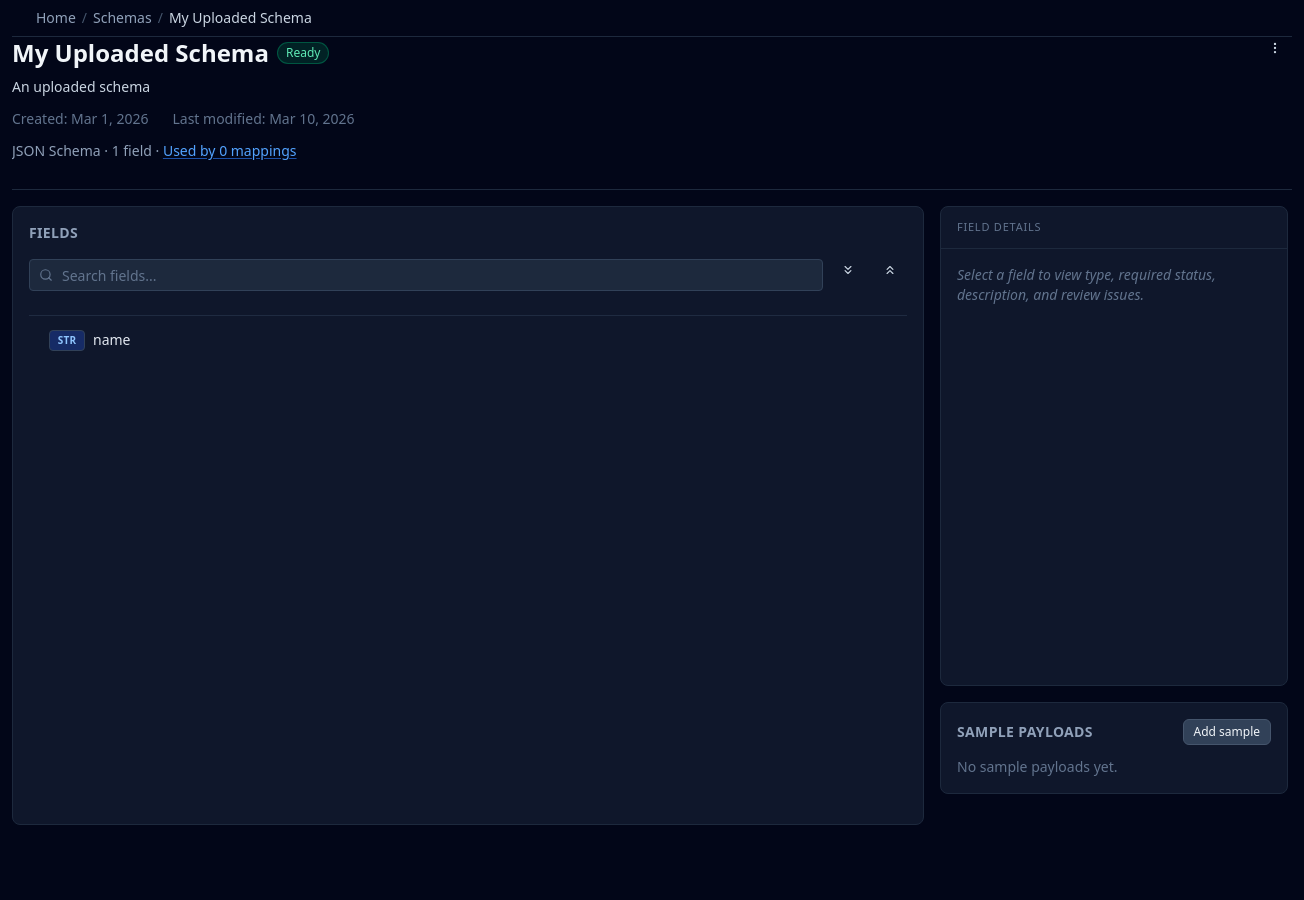
SchemaDetailPage › field details edit mode shows save and cancel controls for selected field
The image size is (1304, 900).
Expected: the element with test id "schema-detail-tree" is shown, [12,206,924,825]
Click the list item "STR name" at x=67, y=340, box [49,330,130,350]
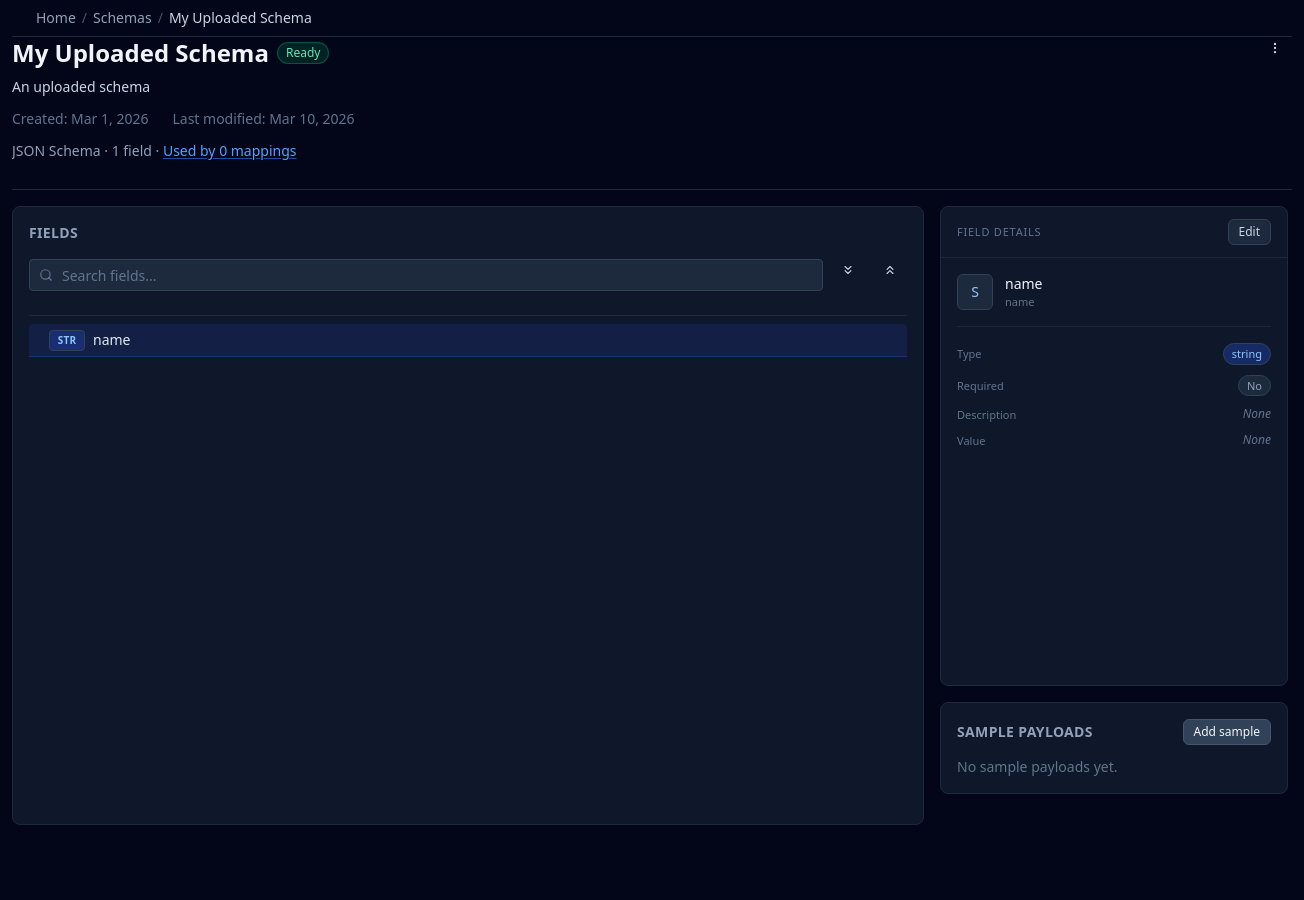
Expected: the button with test id "field-details-edit-button" is shown
Click the button with test id "field-details-edit-button" at x=1249, y=232, box [1228,219,1271,245]
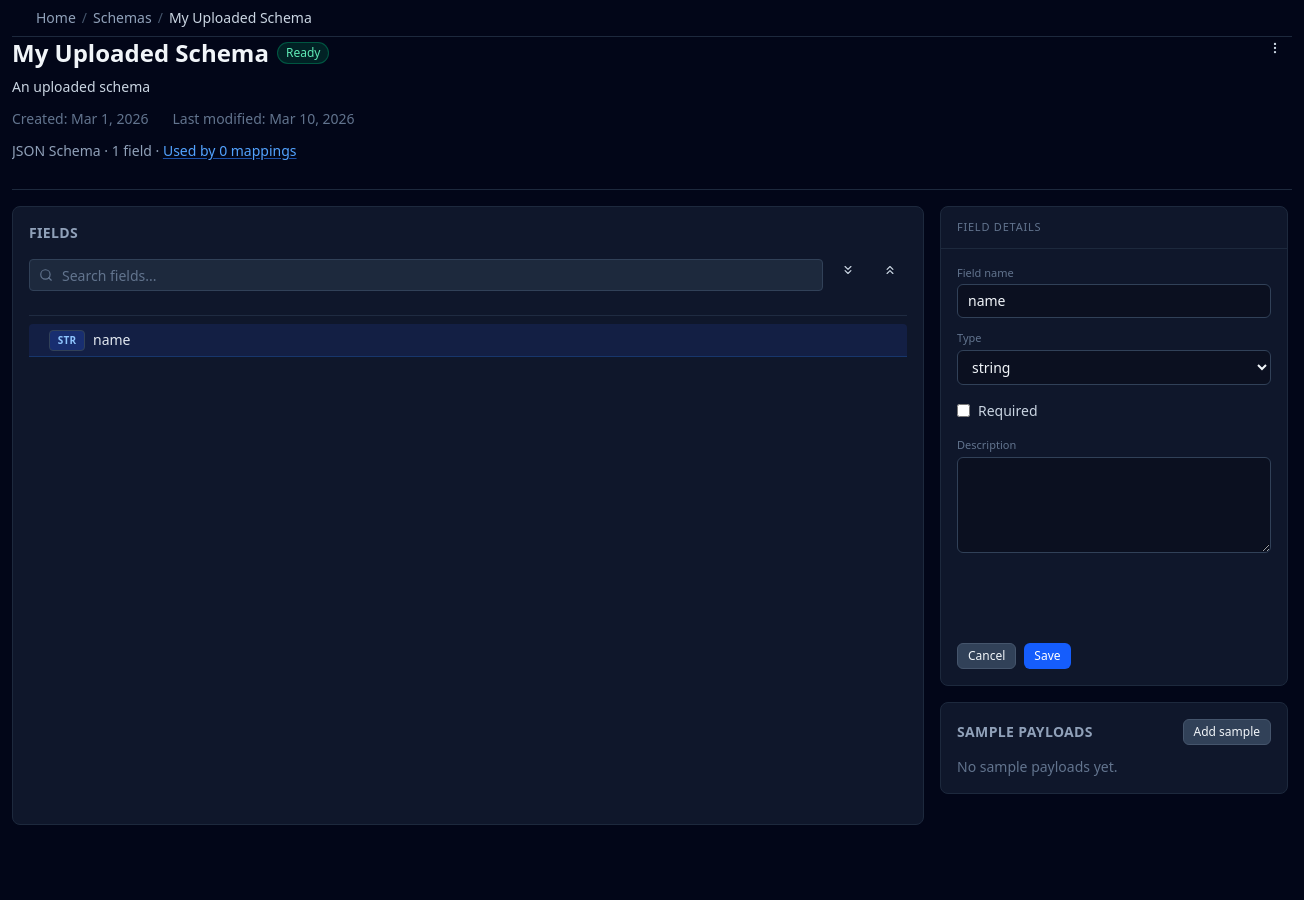
Expected: the element with test id "field-details-edit-form" is shown, [957,264,1271,669]
Expected: the button with test id "field-details-save-button" is shown, [1024,643,1071,669]
Expected: the button with test id "field-details-cancel-button" is shown, [957,643,1016,669]
